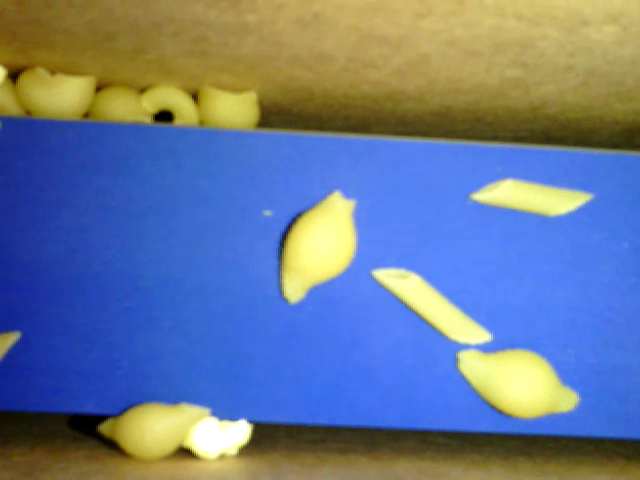elbow: (140, 86, 200, 123)
penne: (370, 267, 492, 343), (465, 177, 597, 218)
shell: (454, 346, 582, 420), (280, 189, 357, 305), (95, 399, 210, 459), (16, 68, 96, 118), (198, 82, 263, 129), (89, 82, 158, 124)
